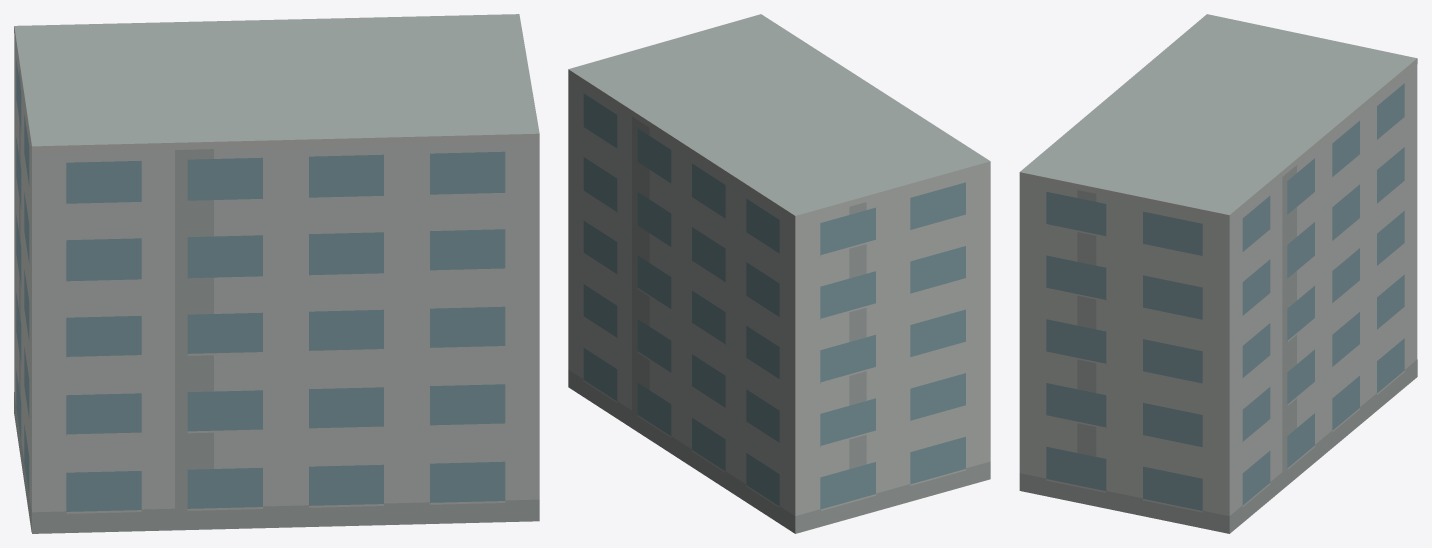
The model's file is survey-upis-32890162.glb.
3 views of the same model, side by side, from view 1: azimuth 30°, elevation 25°; view 2: azimuth 150°, elevation 25°; view 3: azimuth 270°, elevation 25° (orthographic). The views are drawn at different scales.
Visible parts, largest first — view 1: survey-upis-32890162.tmp; view 2: survey-upis-32890162.tmp; view 3: survey-upis-32890162.tmp.
Part boxes in pixels (box(x1,y1,x2,y2)): survey-upis-32890162.tmp: box(14, 14, 539, 533); survey-upis-32890162.tmp: box(568, 14, 990, 533); survey-upis-32890162.tmp: box(1019, 14, 1417, 533).
Bounding box in the file's own units: 17.67 × 13.05 × 14.77.
